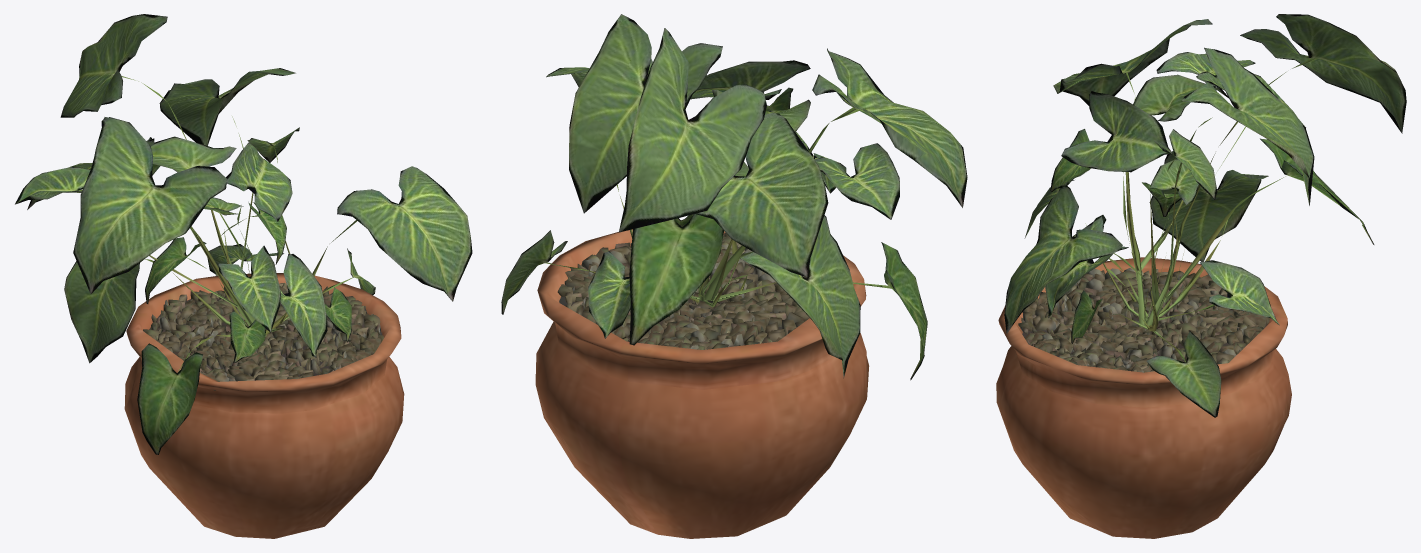
The model's file is potted-plant.glb.
The picture shows the model from 3 angles, left to right: view 1: azimuth 30°, elevation 25°; view 2: azimuth 150°, elevation 25°; view 3: azimuth 270°, elevation 25°; orthographic projection. The views are drawn at different scales.
Visible parts, largest first — view 1: potted_plant_02_leaves, potted_plant_02_pot, potted_plant_02_dirt; view 2: potted_plant_02_leaves, potted_plant_02_pot, potted_plant_02_dirt; view 3: potted_plant_02_leaves, potted_plant_02_pot, potted_plant_02_dirt.
Part boxes in pixels (x1,y1,x2,y2): potted_plant_02_leaves: [15, 14, 472, 454]; potted_plant_02_pot: [124, 273, 404, 538]; potted_plant_02_dirt: [143, 283, 383, 390]; potted_plant_02_leaves: [501, 14, 967, 380]; potted_plant_02_pot: [535, 229, 869, 538]; potted_plant_02_dirt: [557, 232, 809, 349]; potted_plant_02_leaves: [1004, 14, 1406, 417]; potted_plant_02_pot: [996, 257, 1291, 538]; potted_plant_02_dirt: [1018, 268, 1269, 372].
Size of the model in its own units: 0.7009 by 0.8395 by 0.6561.
Materials: 2 (2 with a texture image).
